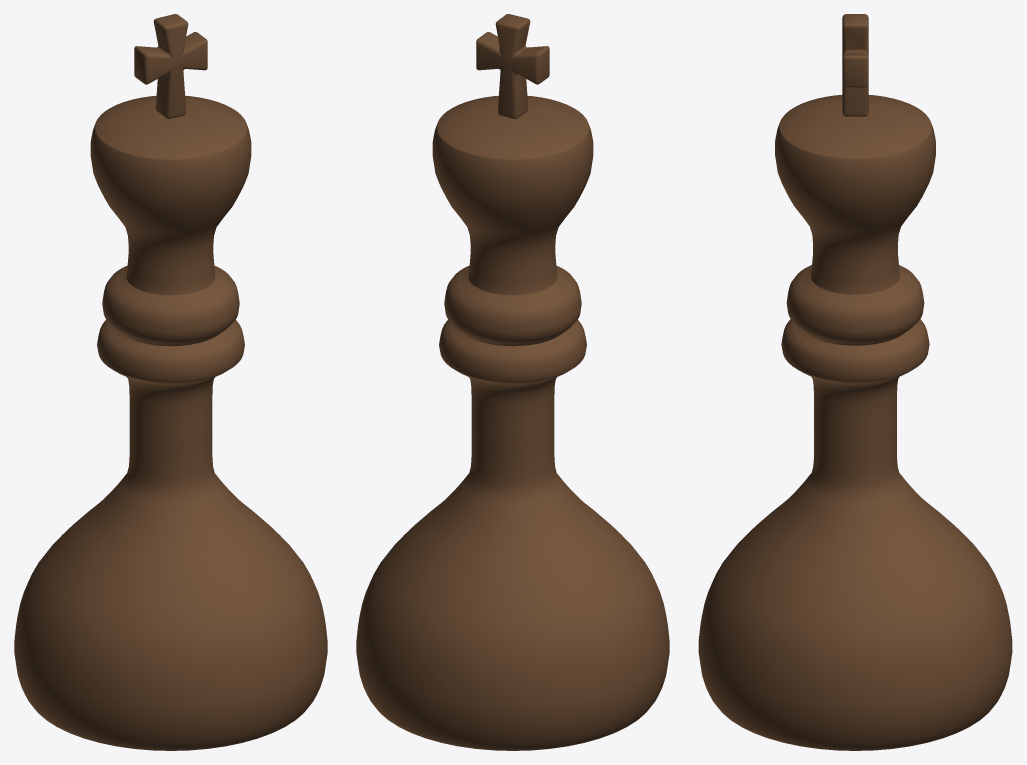
Rendered from black-king.glb.
The picture shows the model from 3 angles, left to right: view 1: azimuth 30°, elevation 25°; view 2: azimuth 150°, elevation 25°; view 3: azimuth 270°, elevation 25°; orthographic projection.
Visible parts, largest first — view 1: black-king.001; view 2: black-king.001; view 3: black-king.001.
Boxes of the visible parts, bbox=[...] form: black-king.001: bbox=[14, 14, 327, 750]; black-king.001: bbox=[356, 14, 669, 750]; black-king.001: bbox=[698, 14, 1012, 750].
Bounding box in the file's own units: 0.7416 × 1.75 × 0.7416.
